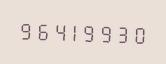four: (49, 18, 64, 43)
nine: (17, 17, 32, 42), (81, 19, 96, 44), (97, 20, 112, 45)
one: (65, 19, 80, 43)
six: (33, 18, 48, 42)
three: (113, 21, 128, 45)
zero: (129, 21, 144, 46)
